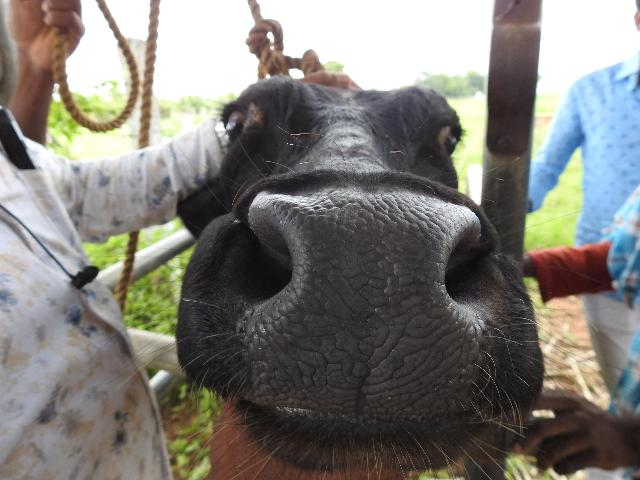Muzzle: (280, 193, 450, 409)
